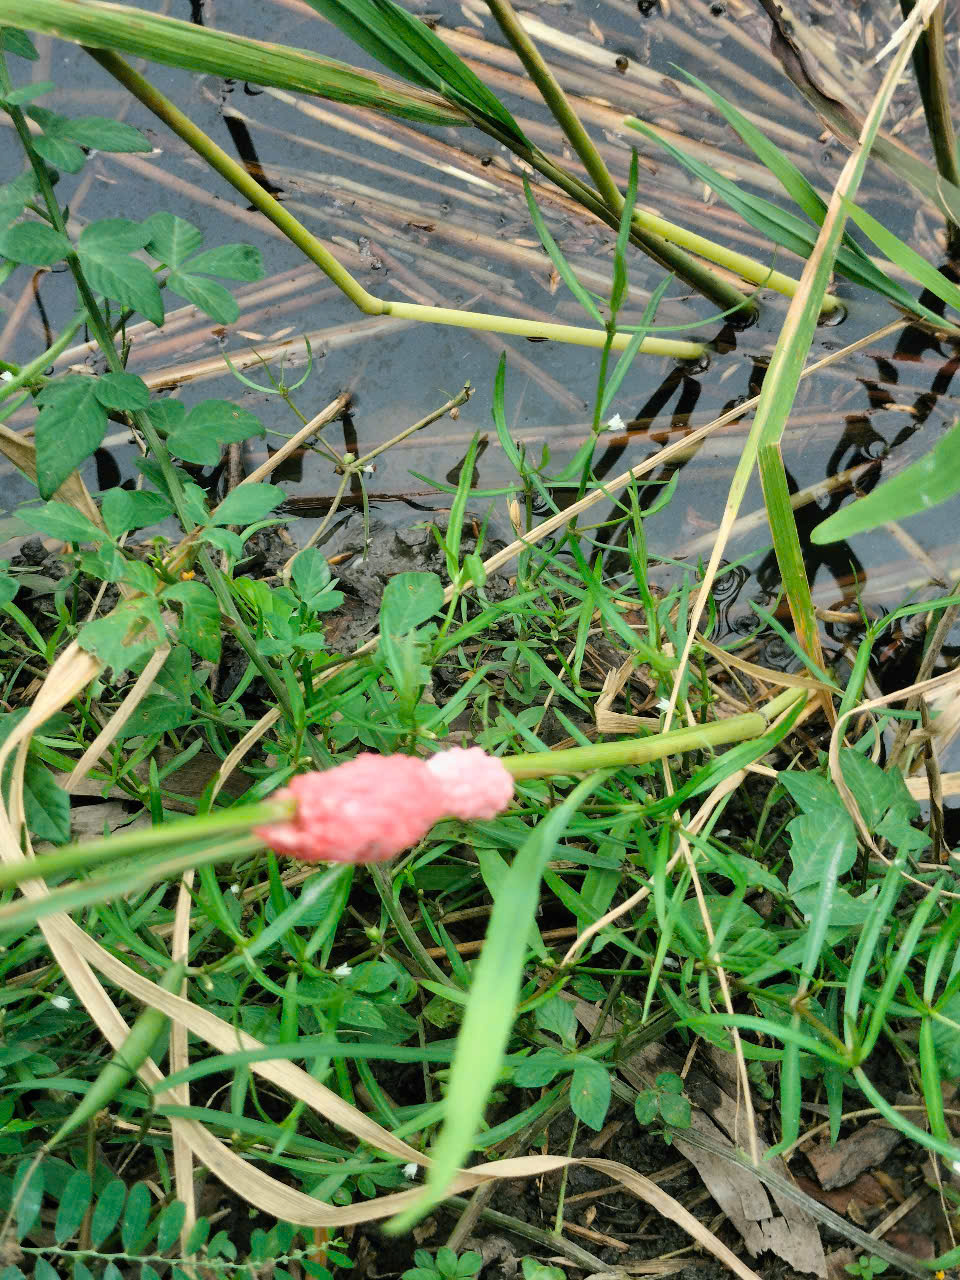trung_oc_buou_vang: (228, 712, 568, 930)
